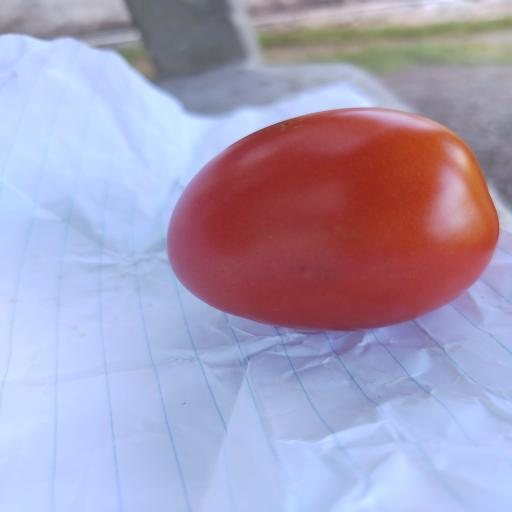ripe: (168, 108, 498, 330)
